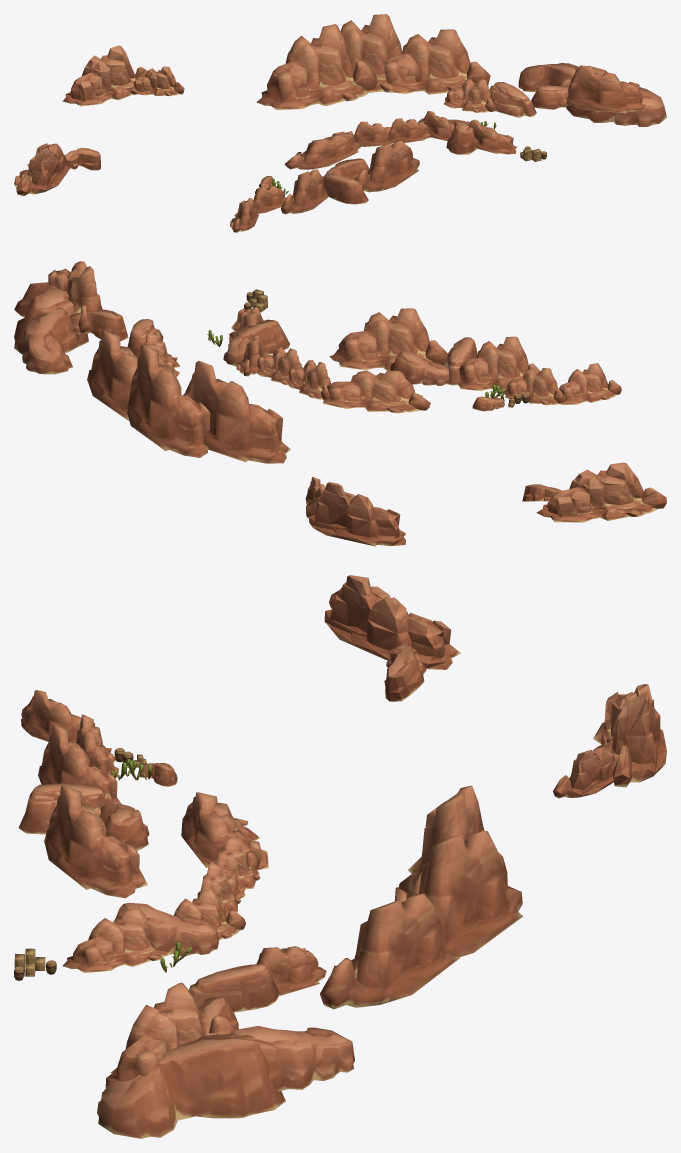
Rendered from rock_red02.fbx.
3 views of the same model, one above another, from view 1: azimuth 30°, elevation 25°; view 2: azimuth 150°, elevation 25°; view 3: azimuth 270°, elevation 25° (orthographic). The views are drawn at different scales.
Visible parts, largest first — view 1: rock_red02; view 2: rock_red02; view 3: rock_red02.
Part boxes in pixels (x1=…): rock_red02: x1=14, y1=14, x2=666, y2=232; rock_red02: x1=14, y1=261, x2=666, y2=546; rock_red02: x1=14, y1=575, x2=666, y2=1138.
Bounding box in the file's own units: 16221 × 2055 × 8877.
1 material, 1 textured.
